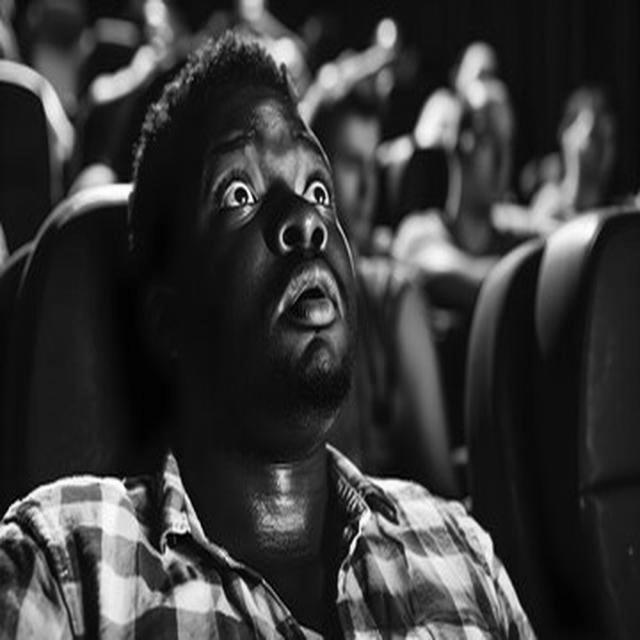Fear: (180, 94, 358, 418)
